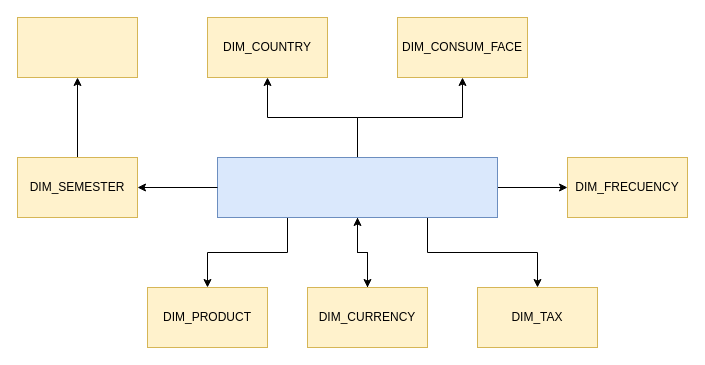
Some shapes in this 705 by 365 pixel diagram are drawn without their labels. Each missing label, with the centre of its shape:
"DIM_YEAR" belongs at point (77, 47).
"FACT_EUROZONE_ENERGY_MARKET" belongs at point (357, 187).
